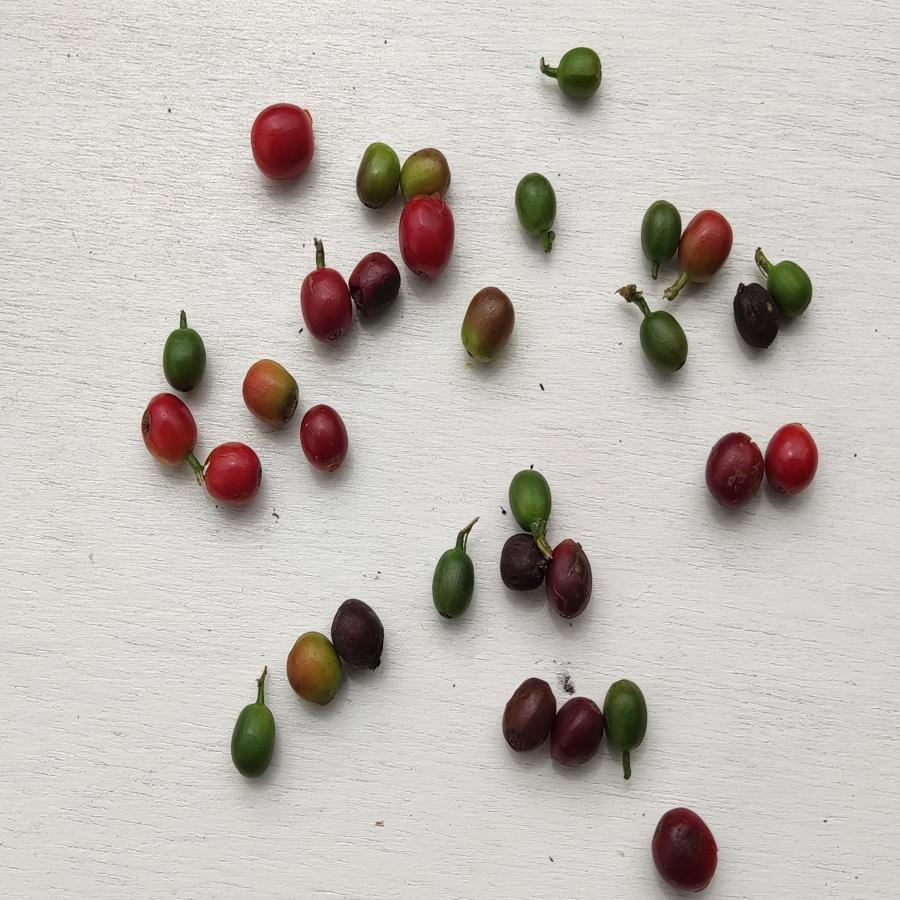Inmaduro: (229, 699, 278, 779), (430, 545, 479, 621), (640, 306, 692, 375), (605, 676, 650, 752), (354, 134, 399, 208), (506, 466, 554, 532), (766, 258, 817, 319), (162, 325, 207, 394), (513, 173, 561, 236), (555, 45, 605, 105), (641, 195, 681, 265)
Maduro: (248, 101, 318, 185), (400, 195, 457, 283), (140, 395, 201, 470), (766, 419, 821, 499), (295, 400, 351, 477), (201, 441, 264, 505), (299, 268, 351, 342)
Pinton: (285, 632, 345, 709), (460, 286, 517, 367), (241, 358, 300, 429), (398, 146, 455, 196)
Sobremaduro: (651, 805, 721, 894), (703, 429, 764, 513), (499, 677, 555, 758), (332, 595, 387, 674), (545, 537, 595, 619), (554, 693, 603, 771), (350, 253, 403, 322), (731, 283, 777, 352), (498, 533, 548, 595)
